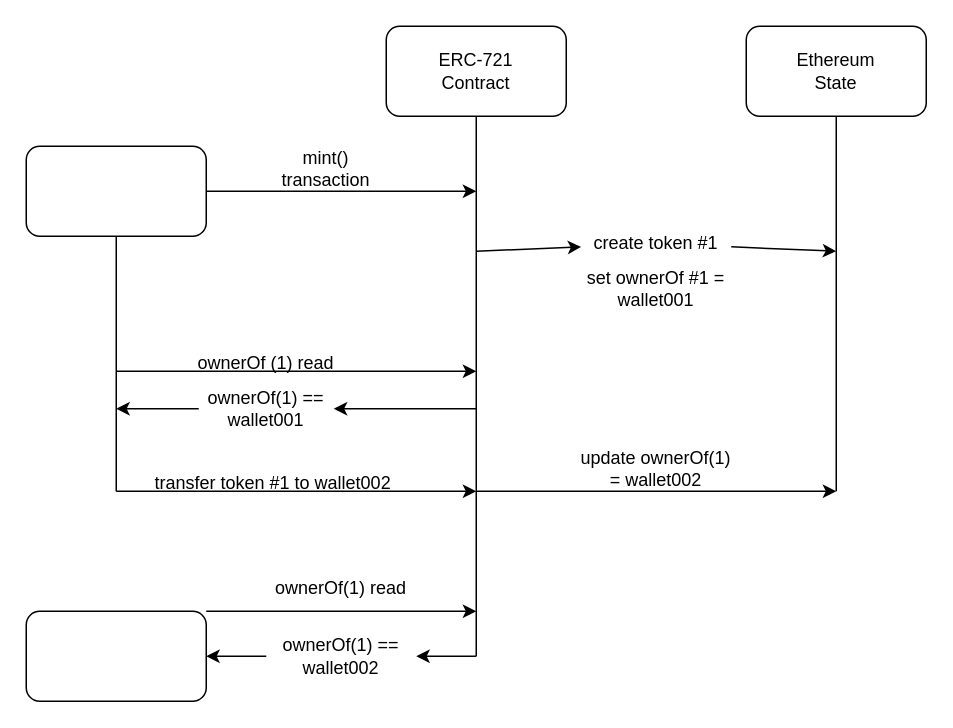
This 953x728 diagram has some shape labels left out. The shapes that lost their labels are listed below. From the top down, each one's centre as x and y in pixels, then its label:
[115,190]: wallet001
[115,655]: wallet002
